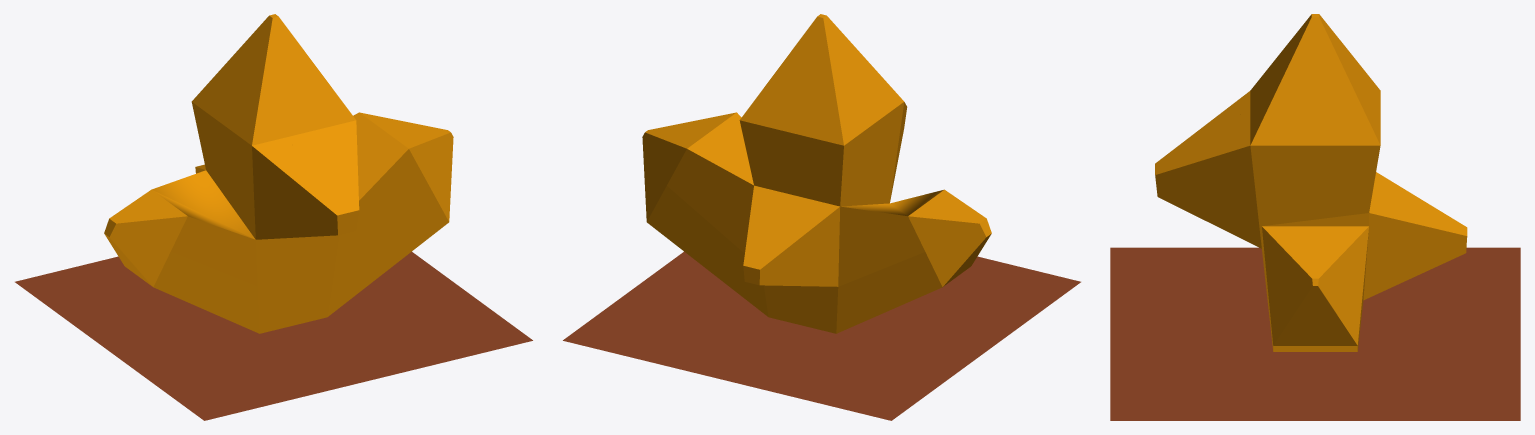
The model's file is arany.glb.
3 views of the same model, side by side, from view 1: azimuth 30°, elevation 25°; view 2: azimuth 150°, elevation 25°; view 3: azimuth 270°, elevation 25° (orthographic). The views are drawn at different scales.
Visible parts, largest first — view 1: Plane, Plane.001; view 2: Plane, Plane.001; view 3: Plane.001, Plane.
Boxes of the visible parts, box(x1,y1,x2,y2) form: Plane: box(104, 14, 453, 333); Plane.001: box(15, 251, 532, 420); Plane: box(642, 14, 991, 333); Plane.001: box(563, 251, 1080, 420); Plane.001: box(1110, 247, 1520, 420); Plane: box(1155, 14, 1467, 351).
Size of the model in its own units: 2.1 by 1.71 by 2.
